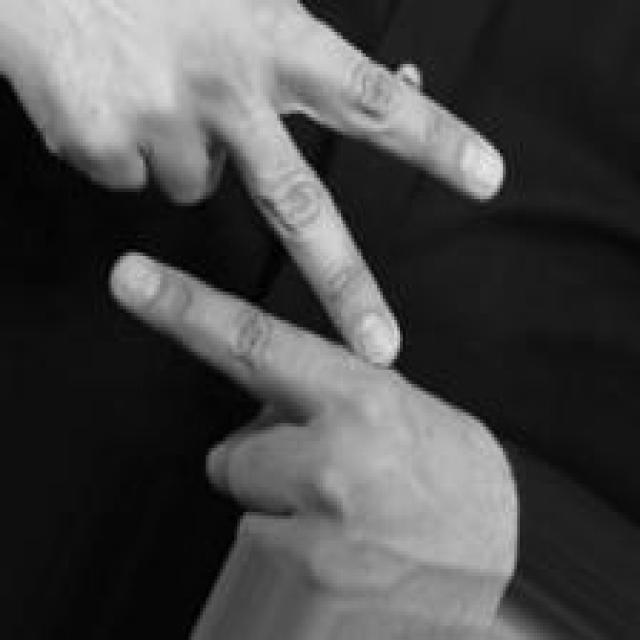Z: (1, 0, 516, 597)
